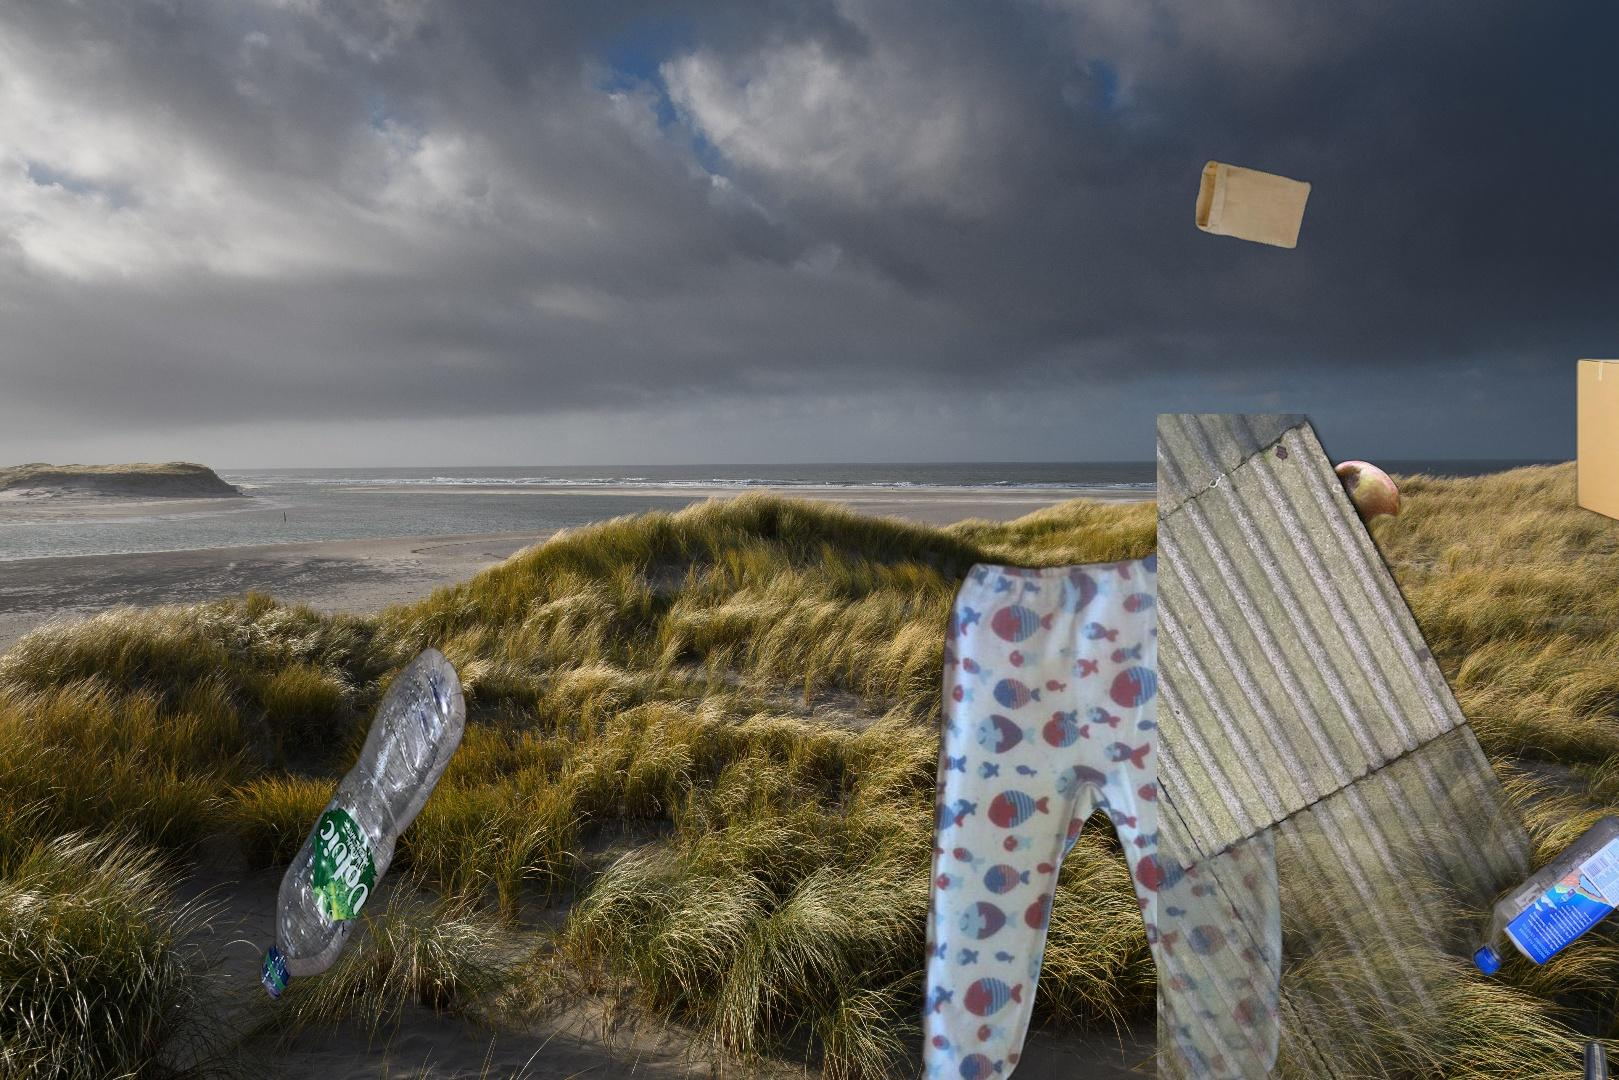biological: (1199, 419, 1489, 558), (1545, 704, 1619, 1052)
clothes: (919, 533, 1287, 1080)
paper-bag: (1192, 157, 1315, 252)
penholder: (1302, 1031, 1619, 1080)
plastic-bottles: (1157, 413, 1619, 1080), (256, 642, 470, 1006)
trashbox-cardboard: (1570, 230, 1619, 576)
